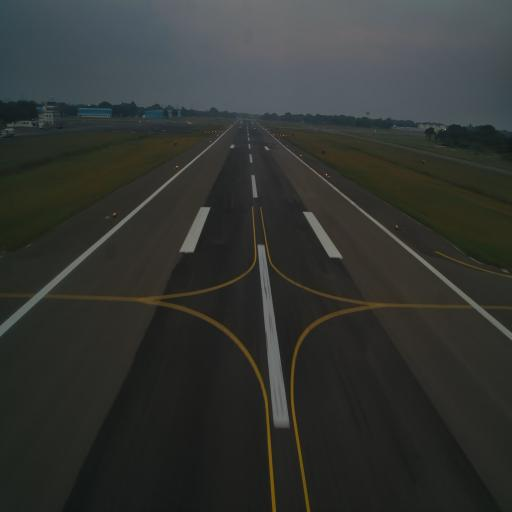on: (394, 222, 400, 230), (325, 171, 329, 178), (113, 210, 116, 218), (176, 164, 180, 170)
